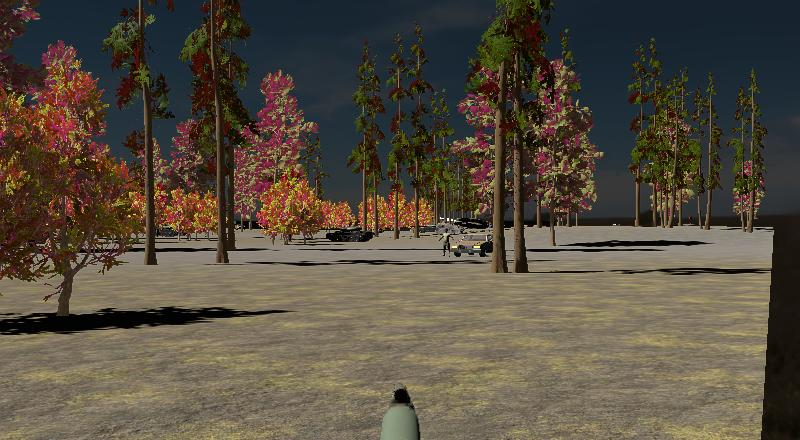Human: (439, 230, 451, 258)
Tank: (324, 224, 374, 243)
car: (451, 230, 499, 259)
